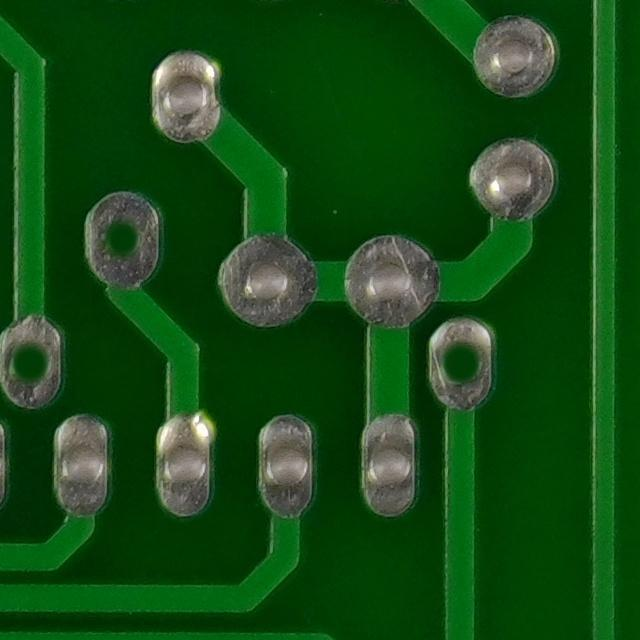missing_hole: (81, 189, 162, 286), (427, 328, 506, 407), (0, 322, 70, 400)
